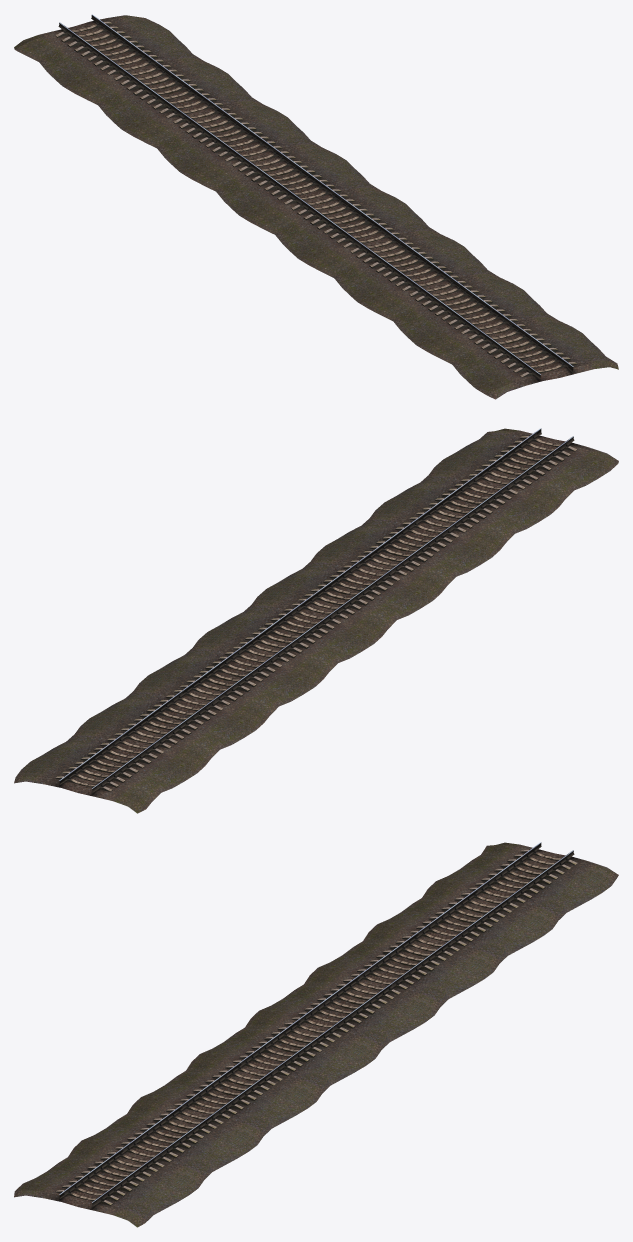
File: 1track_40_TSM.gltf
3 views of the same model, one above another, from view 1: azimuth 30°, elevation 25°; view 2: azimuth 150°, elevation 25°; view 3: azimuth 330°, elevation 25° (orthographic).
Size of the model in its own units: 6.7 by 0.6438 by 40.8.
Materials: 1 (1 with a texture image).
